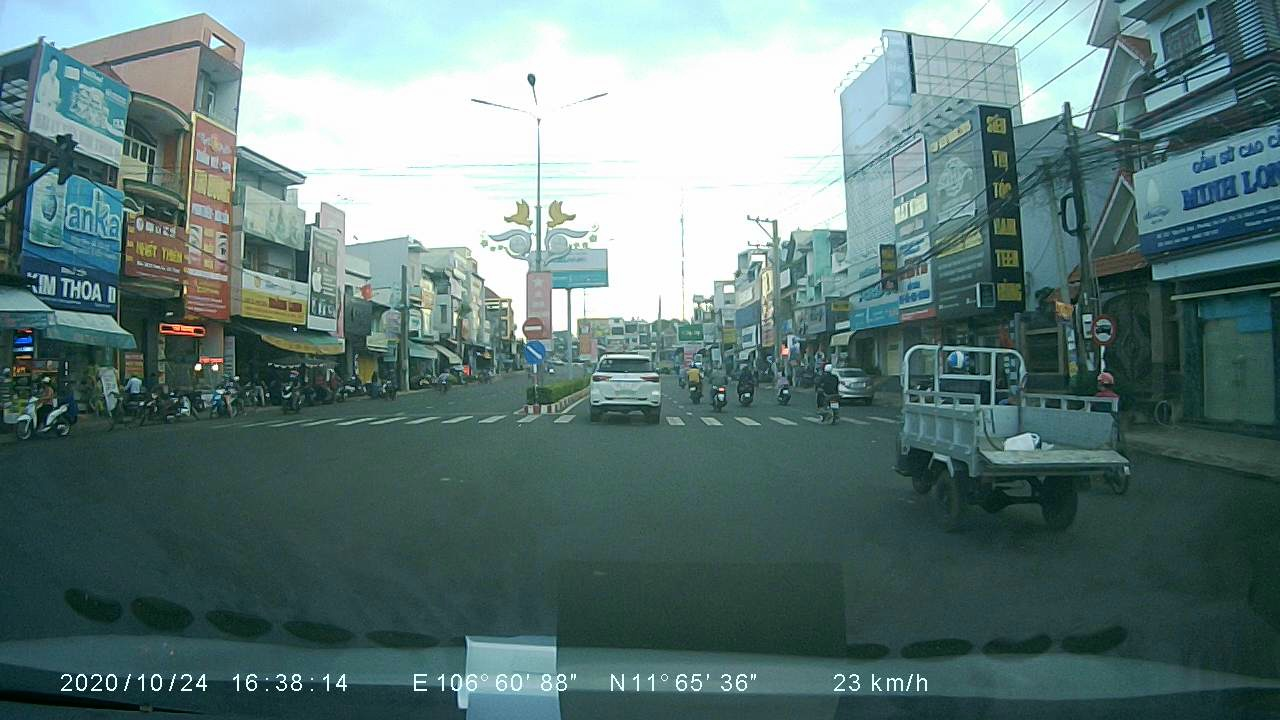Bien khac: (1087, 311, 1118, 345)
Cam di nguoc chieu: (520, 313, 544, 338)
Huong di phai re phai: (520, 339, 549, 369)
